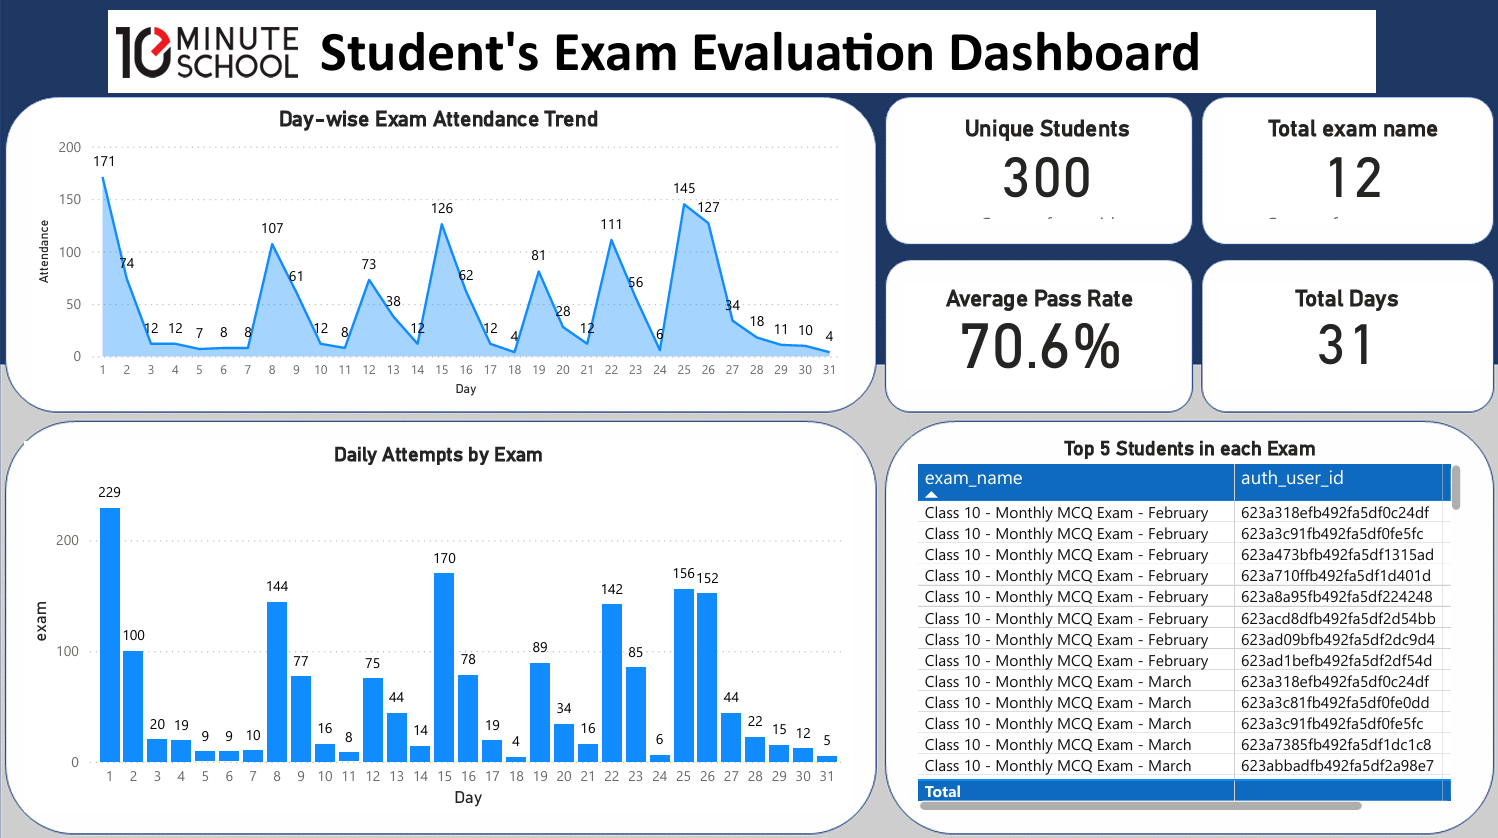

This screenshot's page, from the dashboard's own definition file:
{"tool":"powerbi","page":{"name":"Page 1","canvas":[1280,720],"ordinal":0},"visuals":[{"type":"clusteredColumnChart","title":" Daily Attempts by Exam","fields":{"Category":["exam_sessions.user_exam_ends.Variation.Date Hierarchy.Day"],"Y":["CountNonNull(exam_sessions.exam_id)"]},"box":[22.2,376.8,705.8,315.7],"z":0},{"type":"tableEx","title":"Top 5 Students in each Exam ","fields":{"Values":["Top 5.exam_name","Top 5.auth_user_id","Sum(Top 5.rank)"]},"box":[779.4,372.4,473.5,324.5],"z":1000},{"type":"lineChart","title":" Day-wise Exam Attendance Trend","fields":{"Category":["exam_sessions.user_exam_ends.Variation.Date Hierarchy.Day"],"Y":["Count(exam_sessions.user_id)"]},"box":[28.4,89.6,693.4,252.7],"z":2000},{"type":"card","title":"Average Pass Rate","fields":{"Values":["Q-2.PassRate","select"]},"box":[773.2,243,229.7,88.7],"z":3000},{"type":"card","title":"Unique Students","fields":{"Values":["Count(exam_sessions.user_id)"]},"box":[773.2,98.4,243,92.2],"z":4000},{"type":"card","title":"Total exam name","fields":{"Values":["Count(exams.exam_name)"]},"box":[1046.3,98.4,219,92.2],"z":5000},{"type":"card","title":"Total Days","fields":{"Values":["Count(exam_sessions.user_exam_ends.Variation.Date Hierarchy.Day)"]},"box":[1034.8,243,230.5,88.7],"z":6000},{"type":"textbox","box":[93.1,8.9,1081.8,70],"z":7000},{"type":"image","box":[93.1,17.7,168.5,53.2],"z":8000}]}

Visuals, with their boxes in screenshot pixels (x1, y1, x2, y2), scaled from the page's 1280x720 canvas onto the 1498x838 screenshot:
" Daily Attempts by Exam" clusteredColumnChart: 26,439,852,806
"Top 5 Students in each Exam " tableEx: 912,433,1466,811
" Day-wise Exam Attendance Trend" lineChart: 33,104,845,398
"Average Pass Rate" card: 905,283,1174,386
"Unique Students" card: 905,115,1189,222
"Total exam name" card: 1224,115,1481,222
"Total Days" card: 1211,283,1481,386
textbox: 109,10,1375,92
image: 109,21,306,83
